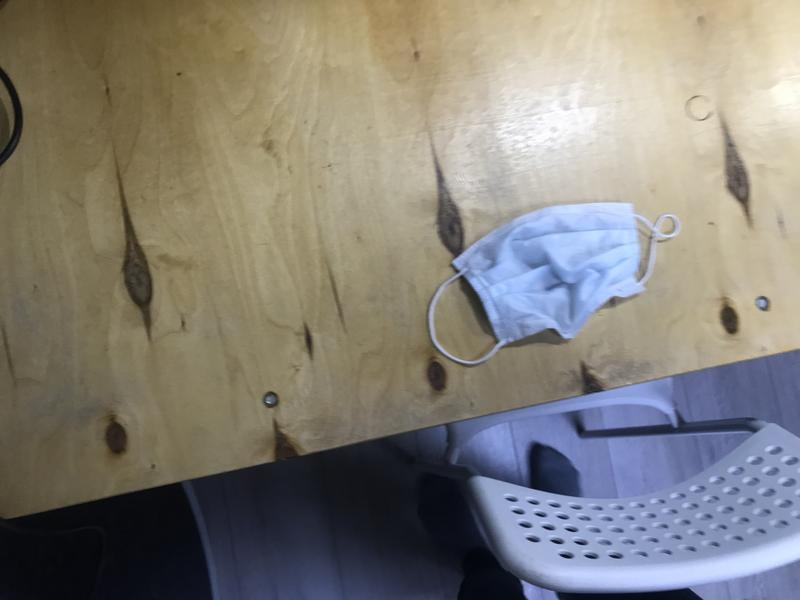medical_mask: (428, 206, 679, 368)
